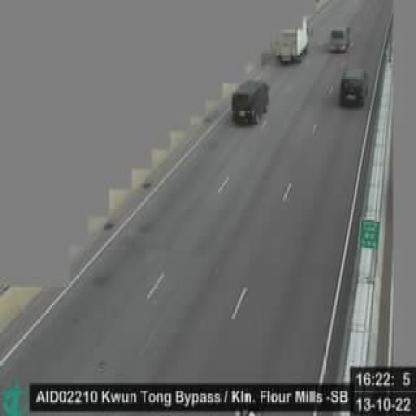Car: (229, 80, 270, 127), (338, 67, 366, 109), (331, 26, 351, 52)
Truck: (275, 20, 311, 64)
